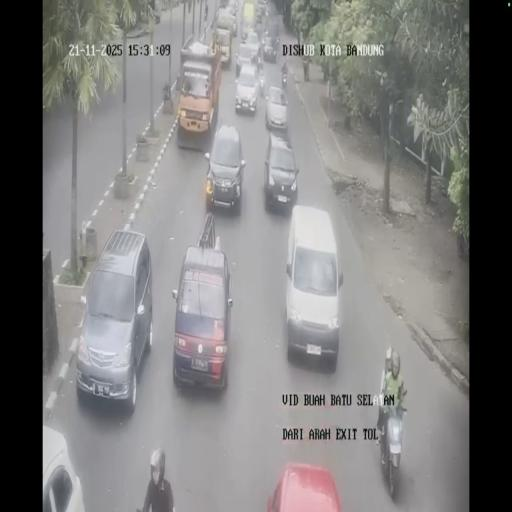car: (76, 228, 152, 408), (170, 222, 234, 391), (287, 206, 342, 368), (205, 121, 246, 215), (42, 424, 85, 510), (263, 131, 299, 213), (265, 84, 289, 132), (235, 40, 259, 77), (216, 8, 237, 43), (262, 24, 279, 62), (256, 0, 266, 22)
motorcycle: (376, 385, 408, 497), (281, 66, 287, 88), (276, 13, 283, 26)
truck: (176, 44, 222, 148), (241, 0, 256, 39), (149, 0, 161, 23)
